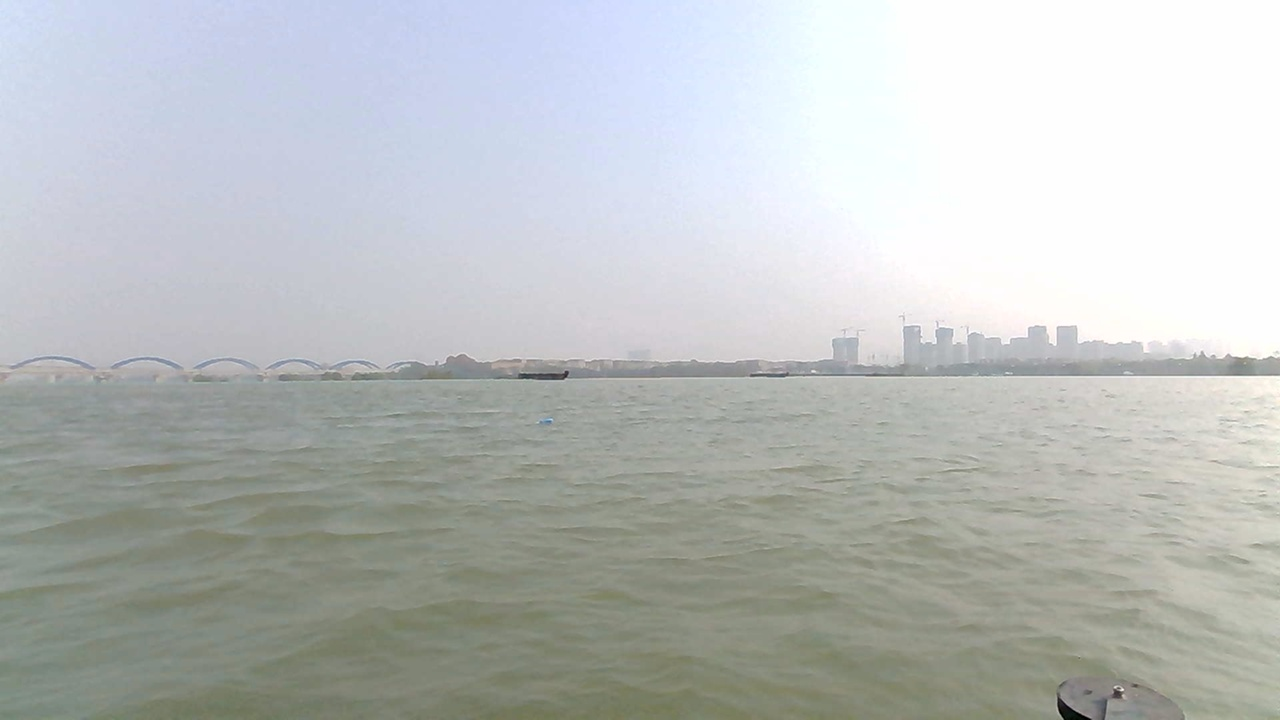bottle: (532, 415, 560, 428)
